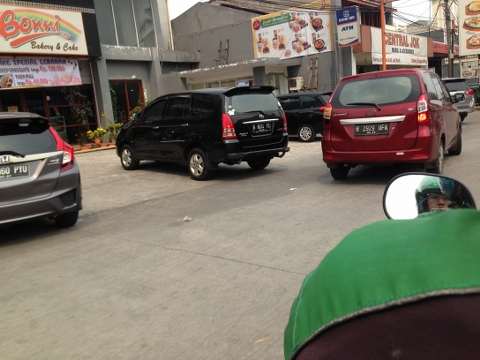mobil: (116, 86, 289, 181), (321, 68, 466, 181), (1, 112, 84, 228)
